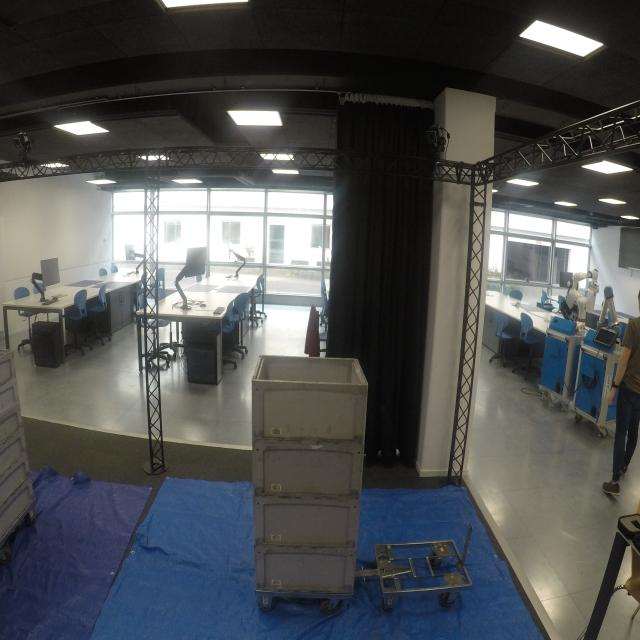Box4G: (250, 352, 369, 445), (251, 436, 364, 497), (252, 494, 362, 551), (252, 544, 360, 598)
